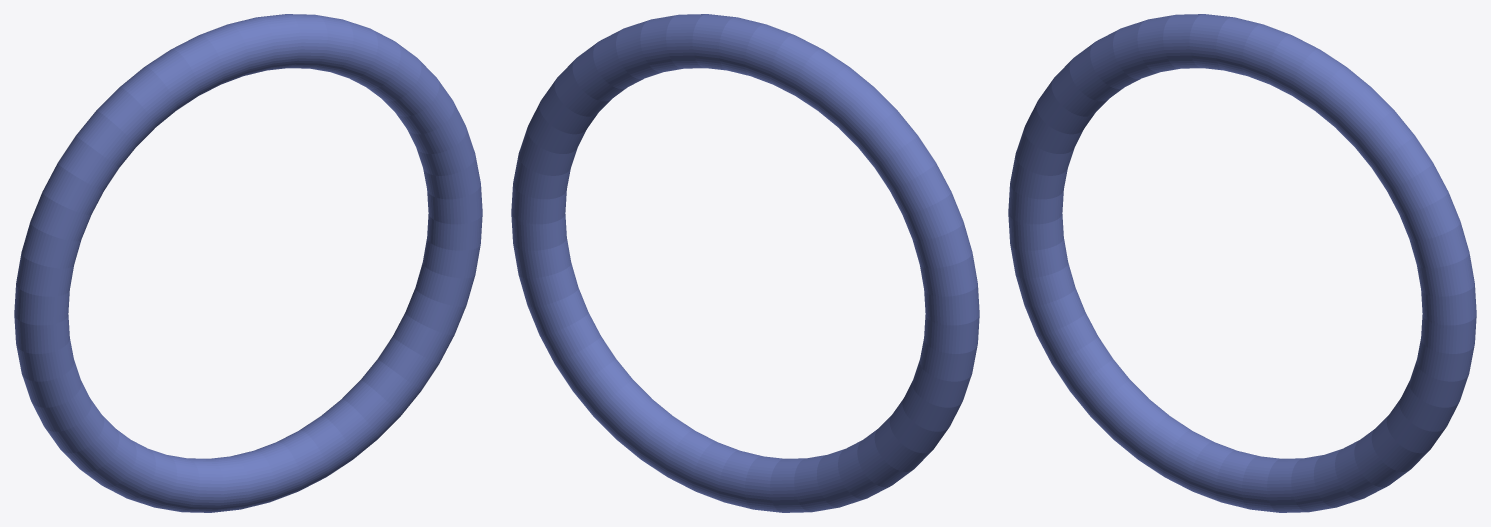
3 views of the same model, side by side, from view 1: azimuth 30°, elevation 25°; view 2: azimuth 150°, elevation 25°; view 3: azimuth 330°, elevation 25° (orthographic).
Visible parts, largest first — view 1: world; view 2: world; view 3: world.
Boxes of the visible parts, left/top/right/bottom form: world: left=14, top=14, right=482, bottom=512; world: left=511, top=14, right=979, bottom=512; world: left=1008, top=14, right=1476, bottom=512.
Size of the model in its own units: 22.27 by 22.22 by 2.26.
